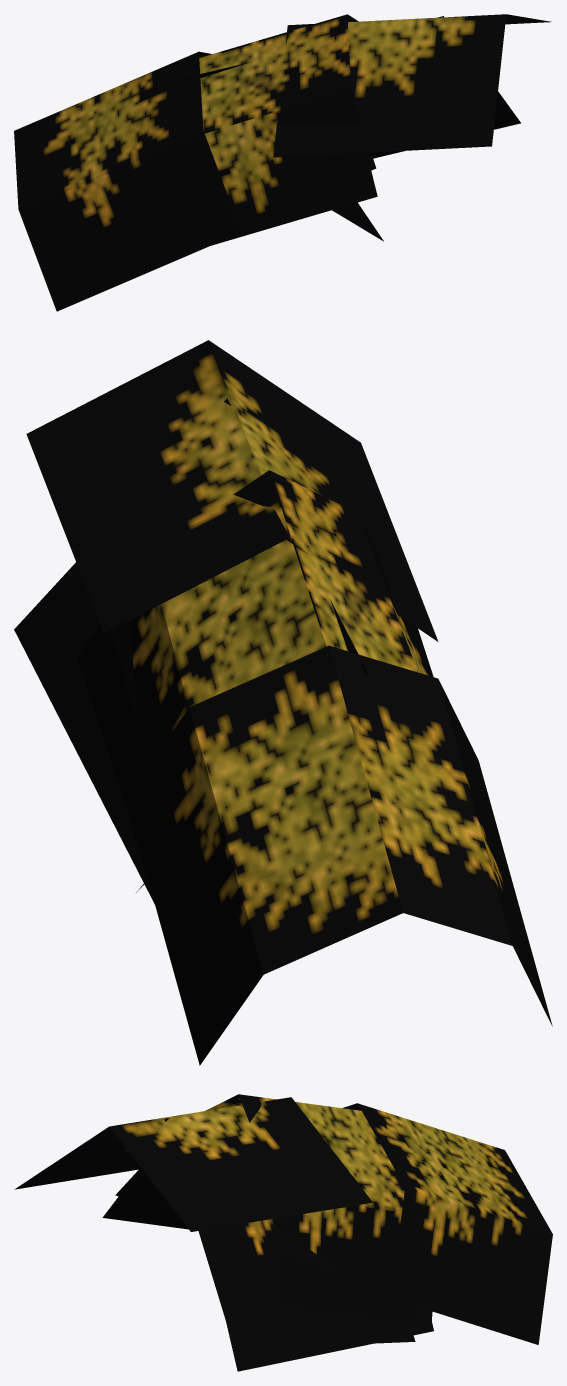
File: larch_leaves_4.obj
The picture shows the model from 3 angles, top to bottom: view 1: azimuth 30°, elevation 25°; view 2: azimuth 150°, elevation 25°; view 3: azimuth 270°, elevation 25°; orthographic projection. The views are drawn at different scales.
Visible parts, largest first — view 1: plane, cube; view 2: plane, cube; view 3: plane, cube.
Boxes of the visible parts, box(x1,y1,x2,y2) form: plane: box(14, 14, 551, 311); cube: box(184, 16, 520, 241); plane: box(26, 340, 552, 1065); cube: box(14, 398, 367, 904); plane: box(14, 1094, 552, 1344); cube: box(164, 1118, 433, 1371).
Bounding box in the file's own units: 3.2 × 2.1 × 3.18.
